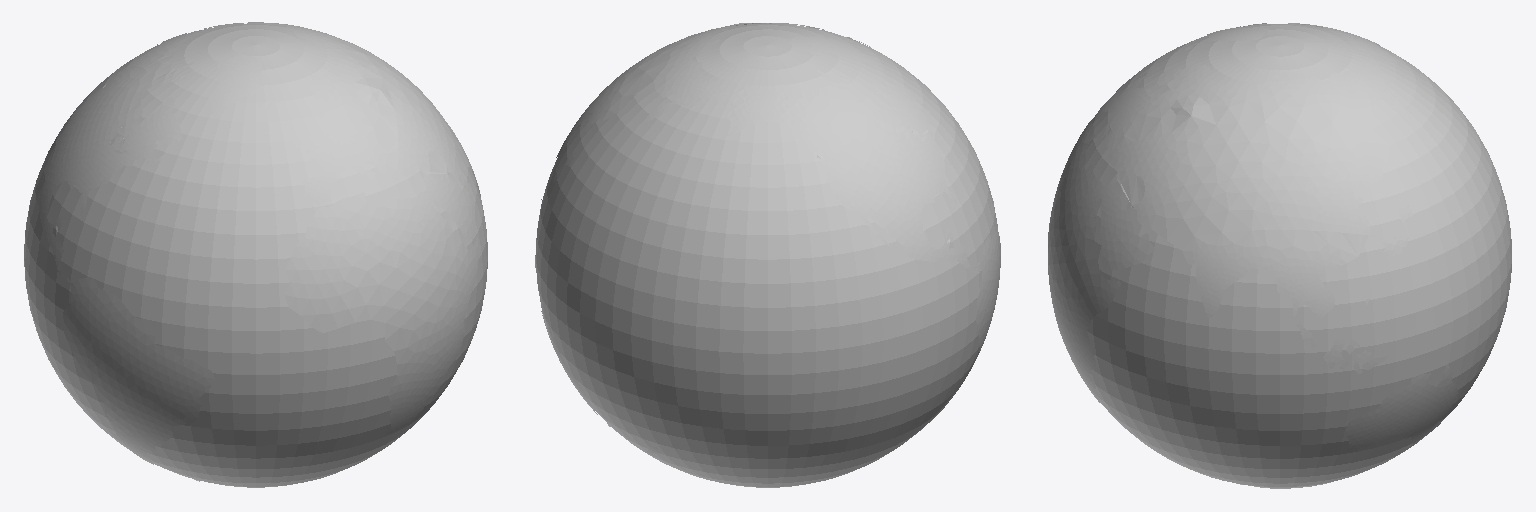
Rendered from globe.obj.
The picture shows the model from 3 angles: view 1: azimuth 30°, elevation 25°; view 2: azimuth 150°, elevation 25°; view 3: azimuth 270°, elevation 25°; orthographic projection.
Parts seen in each view (by area): view 1: OCEAN_BALL, AFRICA, S_AMERICA, N_AMERICA, ASIA, EUROPE, GREENLAND; view 2: OCEAN_BALL, N_AMERICA, ASIA, S_AMERICA, GREENLAND; view 3: OCEAN_BALL, ASIA, AFRICA, AUSTRALIA, EUROPE, INDONESIA, N_AMERICA, GREENLAND, JAPAN.
Part boxes in pixels (bbox=[...]): OCEAN_BALL: bbox=[24, 23, 487, 487]; AFRICA: bbox=[285, 174, 478, 433]; S_AMERICA: bbox=[63, 278, 214, 464]; N_AMERICA: bbox=[39, 31, 201, 237]; ASIA: bbox=[204, 22, 480, 196]; EUROPE: bbox=[291, 75, 418, 205]; GREENLAND: bbox=[210, 56, 262, 118]; OCEAN_BALL: bbox=[535, 23, 998, 487]; N_AMERICA: bbox=[723, 69, 956, 261]; ASIA: bbox=[556, 23, 764, 157]; S_AMERICA: bbox=[915, 232, 1000, 434]; GREENLAND: bbox=[791, 37, 881, 64]; OCEAN_BALL: bbox=[1085, 24, 1511, 487]; ASIA: bbox=[1117, 59, 1408, 347]; AFRICA: bbox=[1048, 118, 1154, 402]; AUSTRALIA: bbox=[1346, 363, 1457, 451]; EUROPE: bbox=[1095, 65, 1209, 170]; INDONESIA: bbox=[1323, 339, 1388, 373]; N_AMERICA: bbox=[1236, 23, 1411, 71]; GREENLAND: bbox=[1207, 28, 1269, 41]; JAPAN: bbox=[1366, 205, 1412, 304].
Bounding box in the file's own units: 19.97 × 19.99 × 19.97.